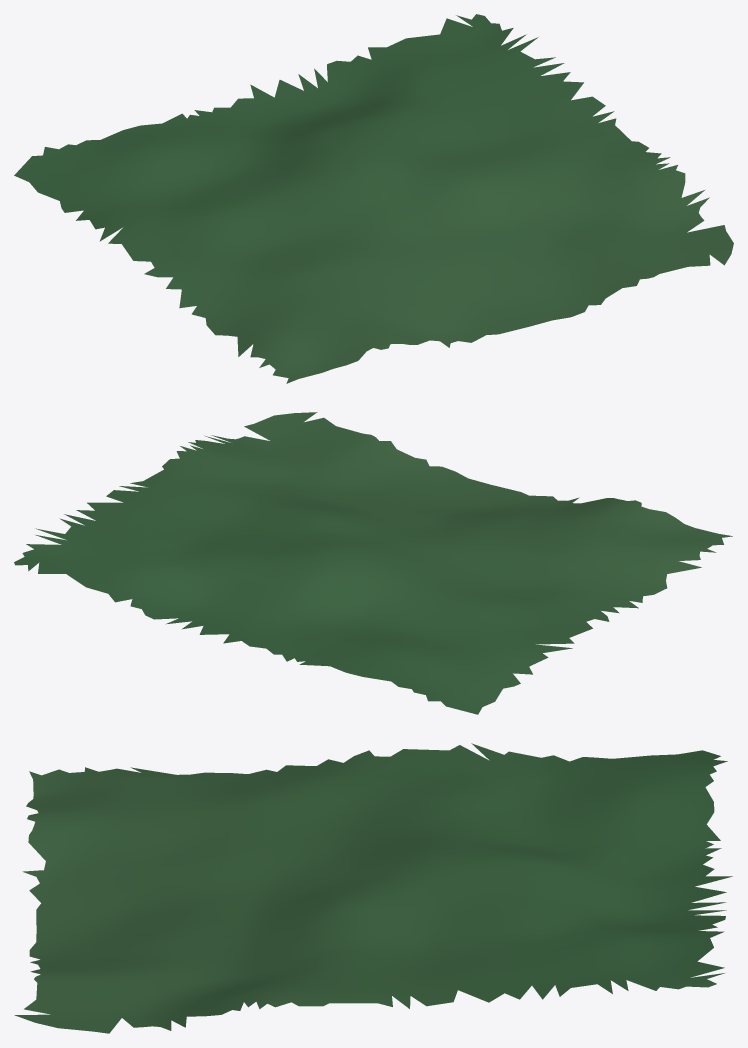
Rendered from payo_land_x0_y8.glb.
The picture shows the model from 3 angles, top to bottom: view 1: azimuth 30°, elevation 25°; view 2: azimuth 150°, elevation 25°; view 3: azimuth 270°, elevation 25°; orthographic projection. The views are drawn at different scales.
Visible parts, largest first — view 1: payo_land_x0_y8; view 2: payo_land_x0_y8; view 3: payo_land_x0_y8.
Part boxes in pixels (bbox=[...]): payo_land_x0_y8: bbox=[14, 14, 733, 383]; payo_land_x0_y8: bbox=[14, 412, 732, 714]; payo_land_x0_y8: bbox=[14, 743, 732, 1033].
Size of the model in its own units: 272 by 33.82 by 271.
